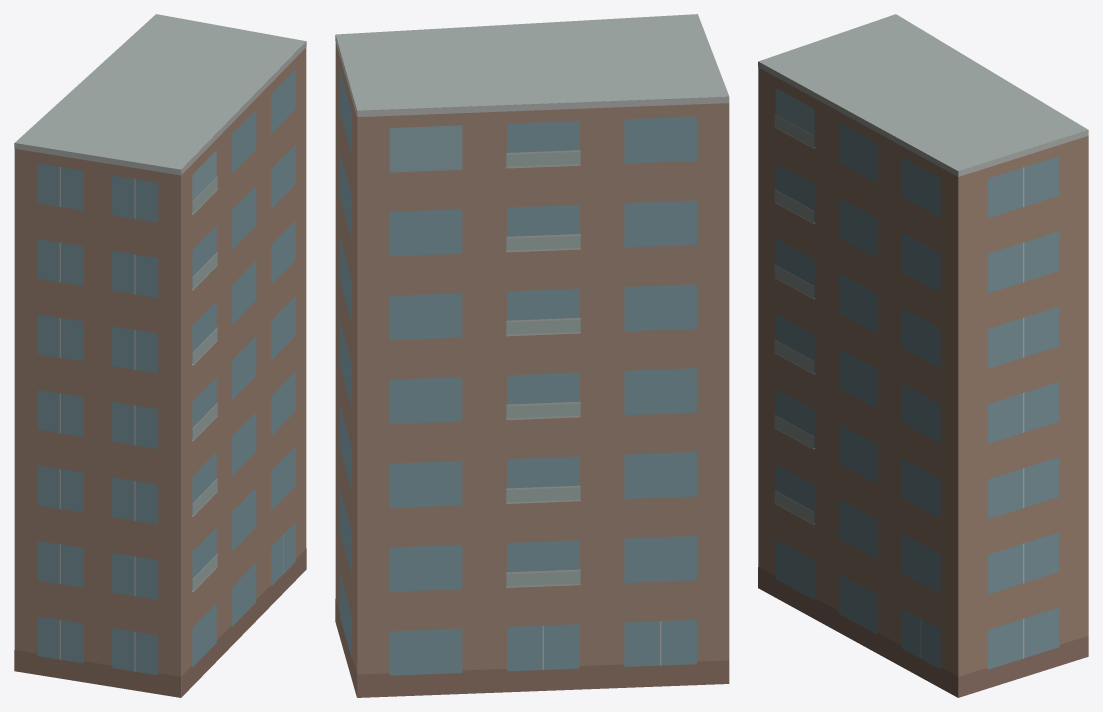
Rendered from survey-upis-33006204.glb.
The picture shows the model from 3 angles, left to right: view 1: azimuth 30°, elevation 25°; view 2: azimuth 150°, elevation 25°; view 3: azimuth 270°, elevation 25°; orthographic projection. The views are drawn at different scales.
Parts seen in each view (by area): view 1: survey-upis-33006204.tmp; view 2: survey-upis-33006204.tmp; view 3: survey-upis-33006204.tmp.
Boxes of the visible parts, x1,y1,x2,y2 form: survey-upis-33006204.tmp: (14,14,306,697); survey-upis-33006204.tmp: (335,14,729,697); survey-upis-33006204.tmp: (758,14,1088,697).
Size of the model in its own units: 14.22 by 22.2 by 12.63.
